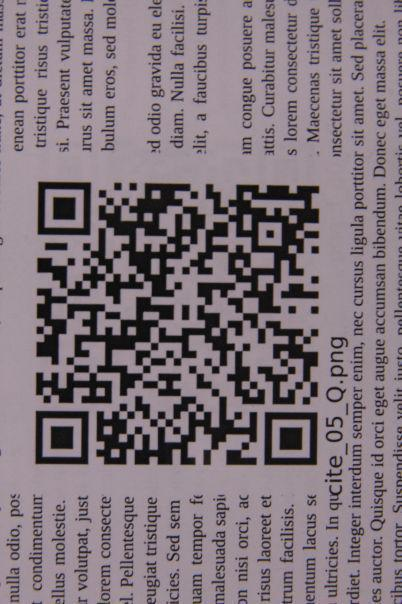qr_code: (35, 181, 320, 468)
